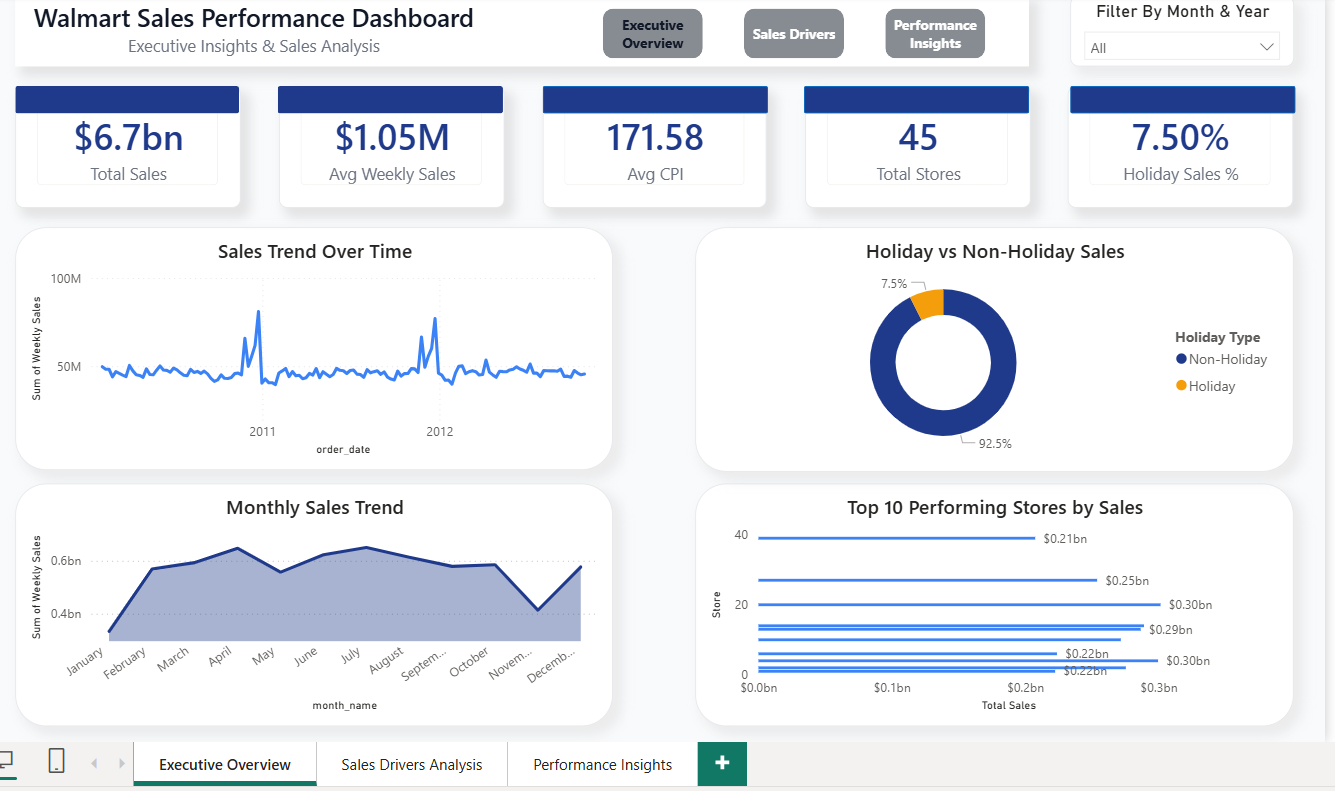

Layout of this report page (visuals, bound fields, positions):
{"tool":"powerbi","page":{"name":"Executive Overview","canvas":[1280,720],"ordinal":0},"visuals":[{"type":"cardVisual","fields":{"Data":["Walmart Sales.Total Sales"]},"box":[15.9,86.7,217.7,117.4],"z":0},{"type":"cardVisual","fields":{"Data":["Walmart Sales.Avg Weekly Sales"]},"box":[270.5,86.7,217.3,117.3],"z":1000},{"type":"cardVisual","fields":{"Data":["Walmart Sales.Avg CPI"]},"box":[524.8,86.7,216,117.3],"z":2000},{"type":"cardVisual","fields":{"Data":["Walmart Sales.Total Stores"]},"box":[777.7,86.7,217.3,117.3],"z":3000},{"type":"cardVisual","fields":{"Data":["Walmart Sales.Holiday Sales %"]},"box":[1032,86.7,217.3,117.3],"z":4000},{"type":"lineChart","title":"Sales Trend Over Time","fields":{"Category":["Walmart Sales.order_date"],"Y":["Sum(Walmart Sales.Weekly Sales)"]},"box":[15.9,223.8,577.2,234.8],"z":5000},{"type":"clusteredBarChart","title":"Top 10 Performing Stores by Sales","fields":{"Y":["Walmart Sales.Total Sales"],"Category":["Walmart Sales.Store"]},"box":[672,470.7,577.3,234.7],"z":6000},{"type":"donutChart","title":"Holiday vs Non-Holiday Sales","fields":{"Category":["Walmart Sales.Holiday Type"],"Y":["Sum(Walmart Sales.Weekly Sales)"]},"box":[672,222.7,577.3,236],"z":7000},{"type":"areaChart","title":"Monthly Sales Trend","fields":{"Category":["Walmart Sales.month_name"],"Y":["Sum(Walmart Sales.Weekly Sales)"]},"box":[15.9,470.8,577.2,234.8],"z":8000},{"type":"slicer","title":"Filter By Month & Year","fields":{"Values":["Walmart Sales.month_name","Walmart Sales.year"]},"box":[1033.3,0,216,68],"z":9000},{"type":"shape","box":[16,86.7,216,26.7],"z":10000},{"type":"shape","box":[269.3,86.7,217.3,26.7],"z":11000},{"type":"shape","box":[525.3,86.7,217.3,26.7],"z":12000},{"type":"shape","box":[777.3,86.7,217.3,26.7],"z":13000},{"type":"shape","box":[1033.3,86.7,217.3,26.7],"z":14000},{"type":"shape","box":[16,0,978.7,68],"z":15000},{"type":"textbox","box":[0,0,492,100],"z":16000},{"type":"actionButton","box":[582.7,12.1,96.5,48.3],"z":17000},{"type":"actionButton","box":[719,12.1,96.5,48.3],"z":18000},{"type":"actionButton","box":[855.4,12.1,96.5,48.3],"z":19000}]}

Visuals, with their boxes on the page's 1280x720 design canvas (x1, y1, x2, y2). These are canvas units, not pixel positions in the 1335x791 screenshot, which may show the page scaled, cropped or inside an application window:
cardVisual - Walmart Sales.Total Sales: <box>16,87,234,204</box>
cardVisual - Walmart Sales.Avg Weekly Sales: <box>270,87,488,204</box>
cardVisual - Walmart Sales.Avg CPI: <box>525,87,741,204</box>
cardVisual - Walmart Sales.Total Stores: <box>778,87,995,204</box>
cardVisual - Walmart Sales.Holiday Sales %: <box>1032,87,1249,204</box>
"Sales Trend Over Time" lineChart: <box>16,224,593,459</box>
"Top 10 Performing Stores by Sales" clusteredBarChart: <box>672,471,1249,705</box>
"Holiday vs Non-Holiday Sales" donutChart: <box>672,223,1249,459</box>
"Monthly Sales Trend" areaChart: <box>16,471,593,706</box>
"Filter By Month & Year" slicer: <box>1033,0,1249,68</box>
shape: <box>16,87,232,113</box>
shape: <box>269,87,487,113</box>
shape: <box>525,87,743,113</box>
shape: <box>777,87,995,113</box>
shape: <box>1033,87,1251,113</box>
shape: <box>16,0,995,68</box>
textbox: <box>0,0,492,100</box>
actionButton: <box>583,12,679,60</box>
actionButton: <box>719,12,816,60</box>
actionButton: <box>855,12,952,60</box>
